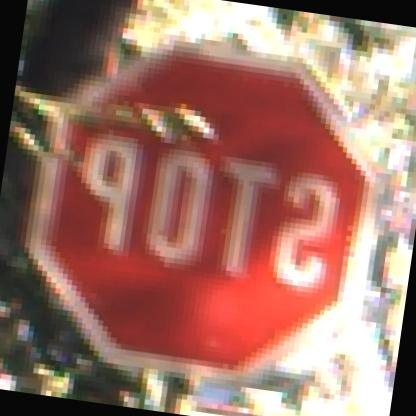stop: (5, 20, 402, 400)
